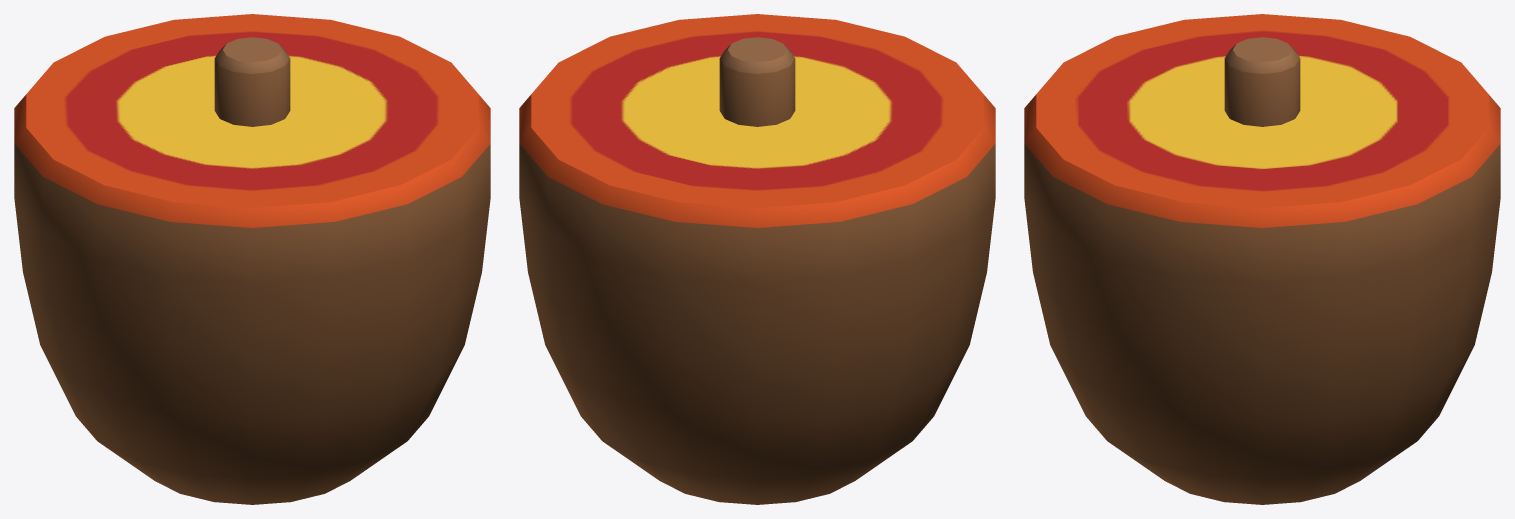
Rendered from top.FBX.
3 views of the same model, side by side, from view 1: azimuth 30°, elevation 25°; view 2: azimuth 150°, elevation 25°; view 3: azimuth 270°, elevation 25° (orthographic).
Parts seen in each view (by area): view 1: top; view 2: top; view 3: top.
Part boxes in pixels (x1,y1,x2,y2): top: (14,14,490,504); top: (519,14,995,504); top: (1024,14,1500,504).
Size of the model in its own units: 27.68 by 28.73 by 27.26.
